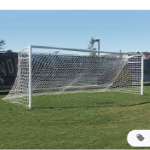goals: (2, 43, 145, 108)
